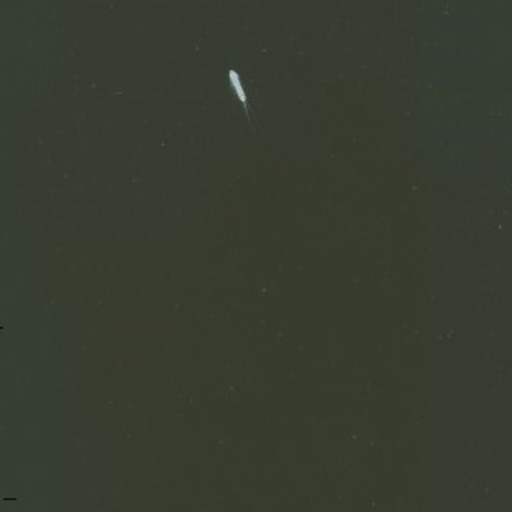ship: (225, 65, 250, 106)
